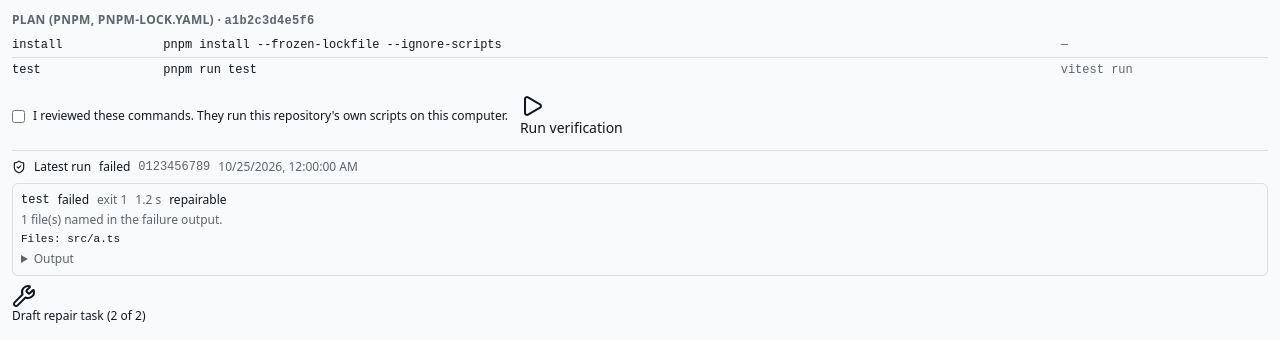
VerificationPanel › reports real failures and drafts a bounded repair task
The width and height of the screenshot is (1280, 340).
Expected: the text "exit 1" is shown, [97,192,127,208]
Expected: the text "repairable" is shown, [169,192,227,208]
Click the button "Draft repair task (2 of 2)" at point(79, 304), box [12,284,146,324]
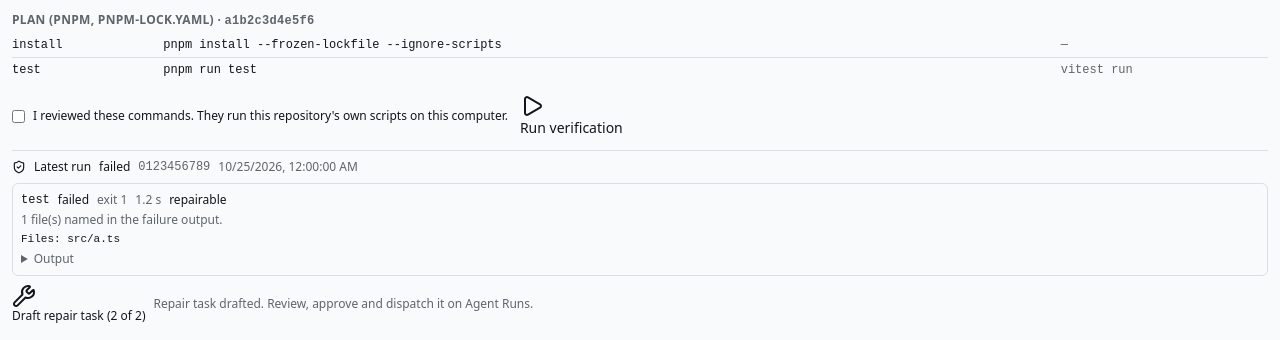
Now the text "Repair task drafted. Review, approve and dispatch it on Agent Runs." is shown, box [154,296,533,312]
